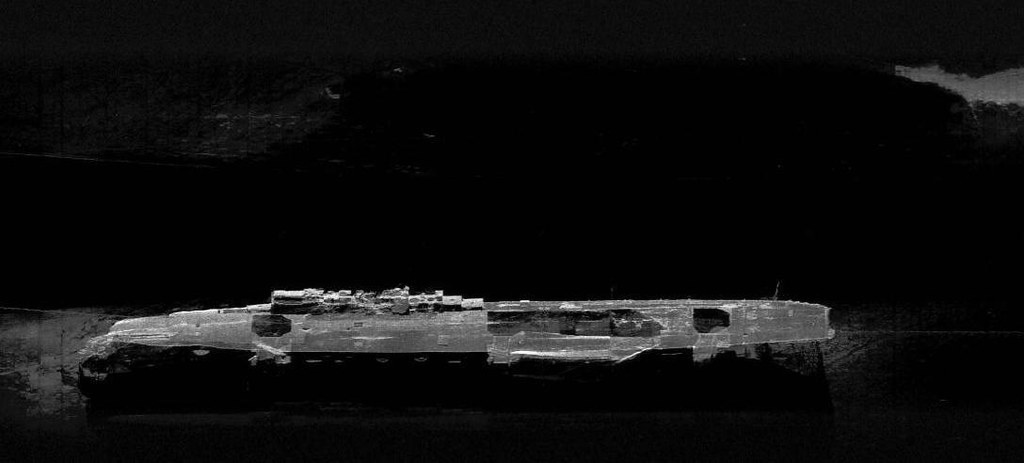ship: (101, 276, 839, 372)
